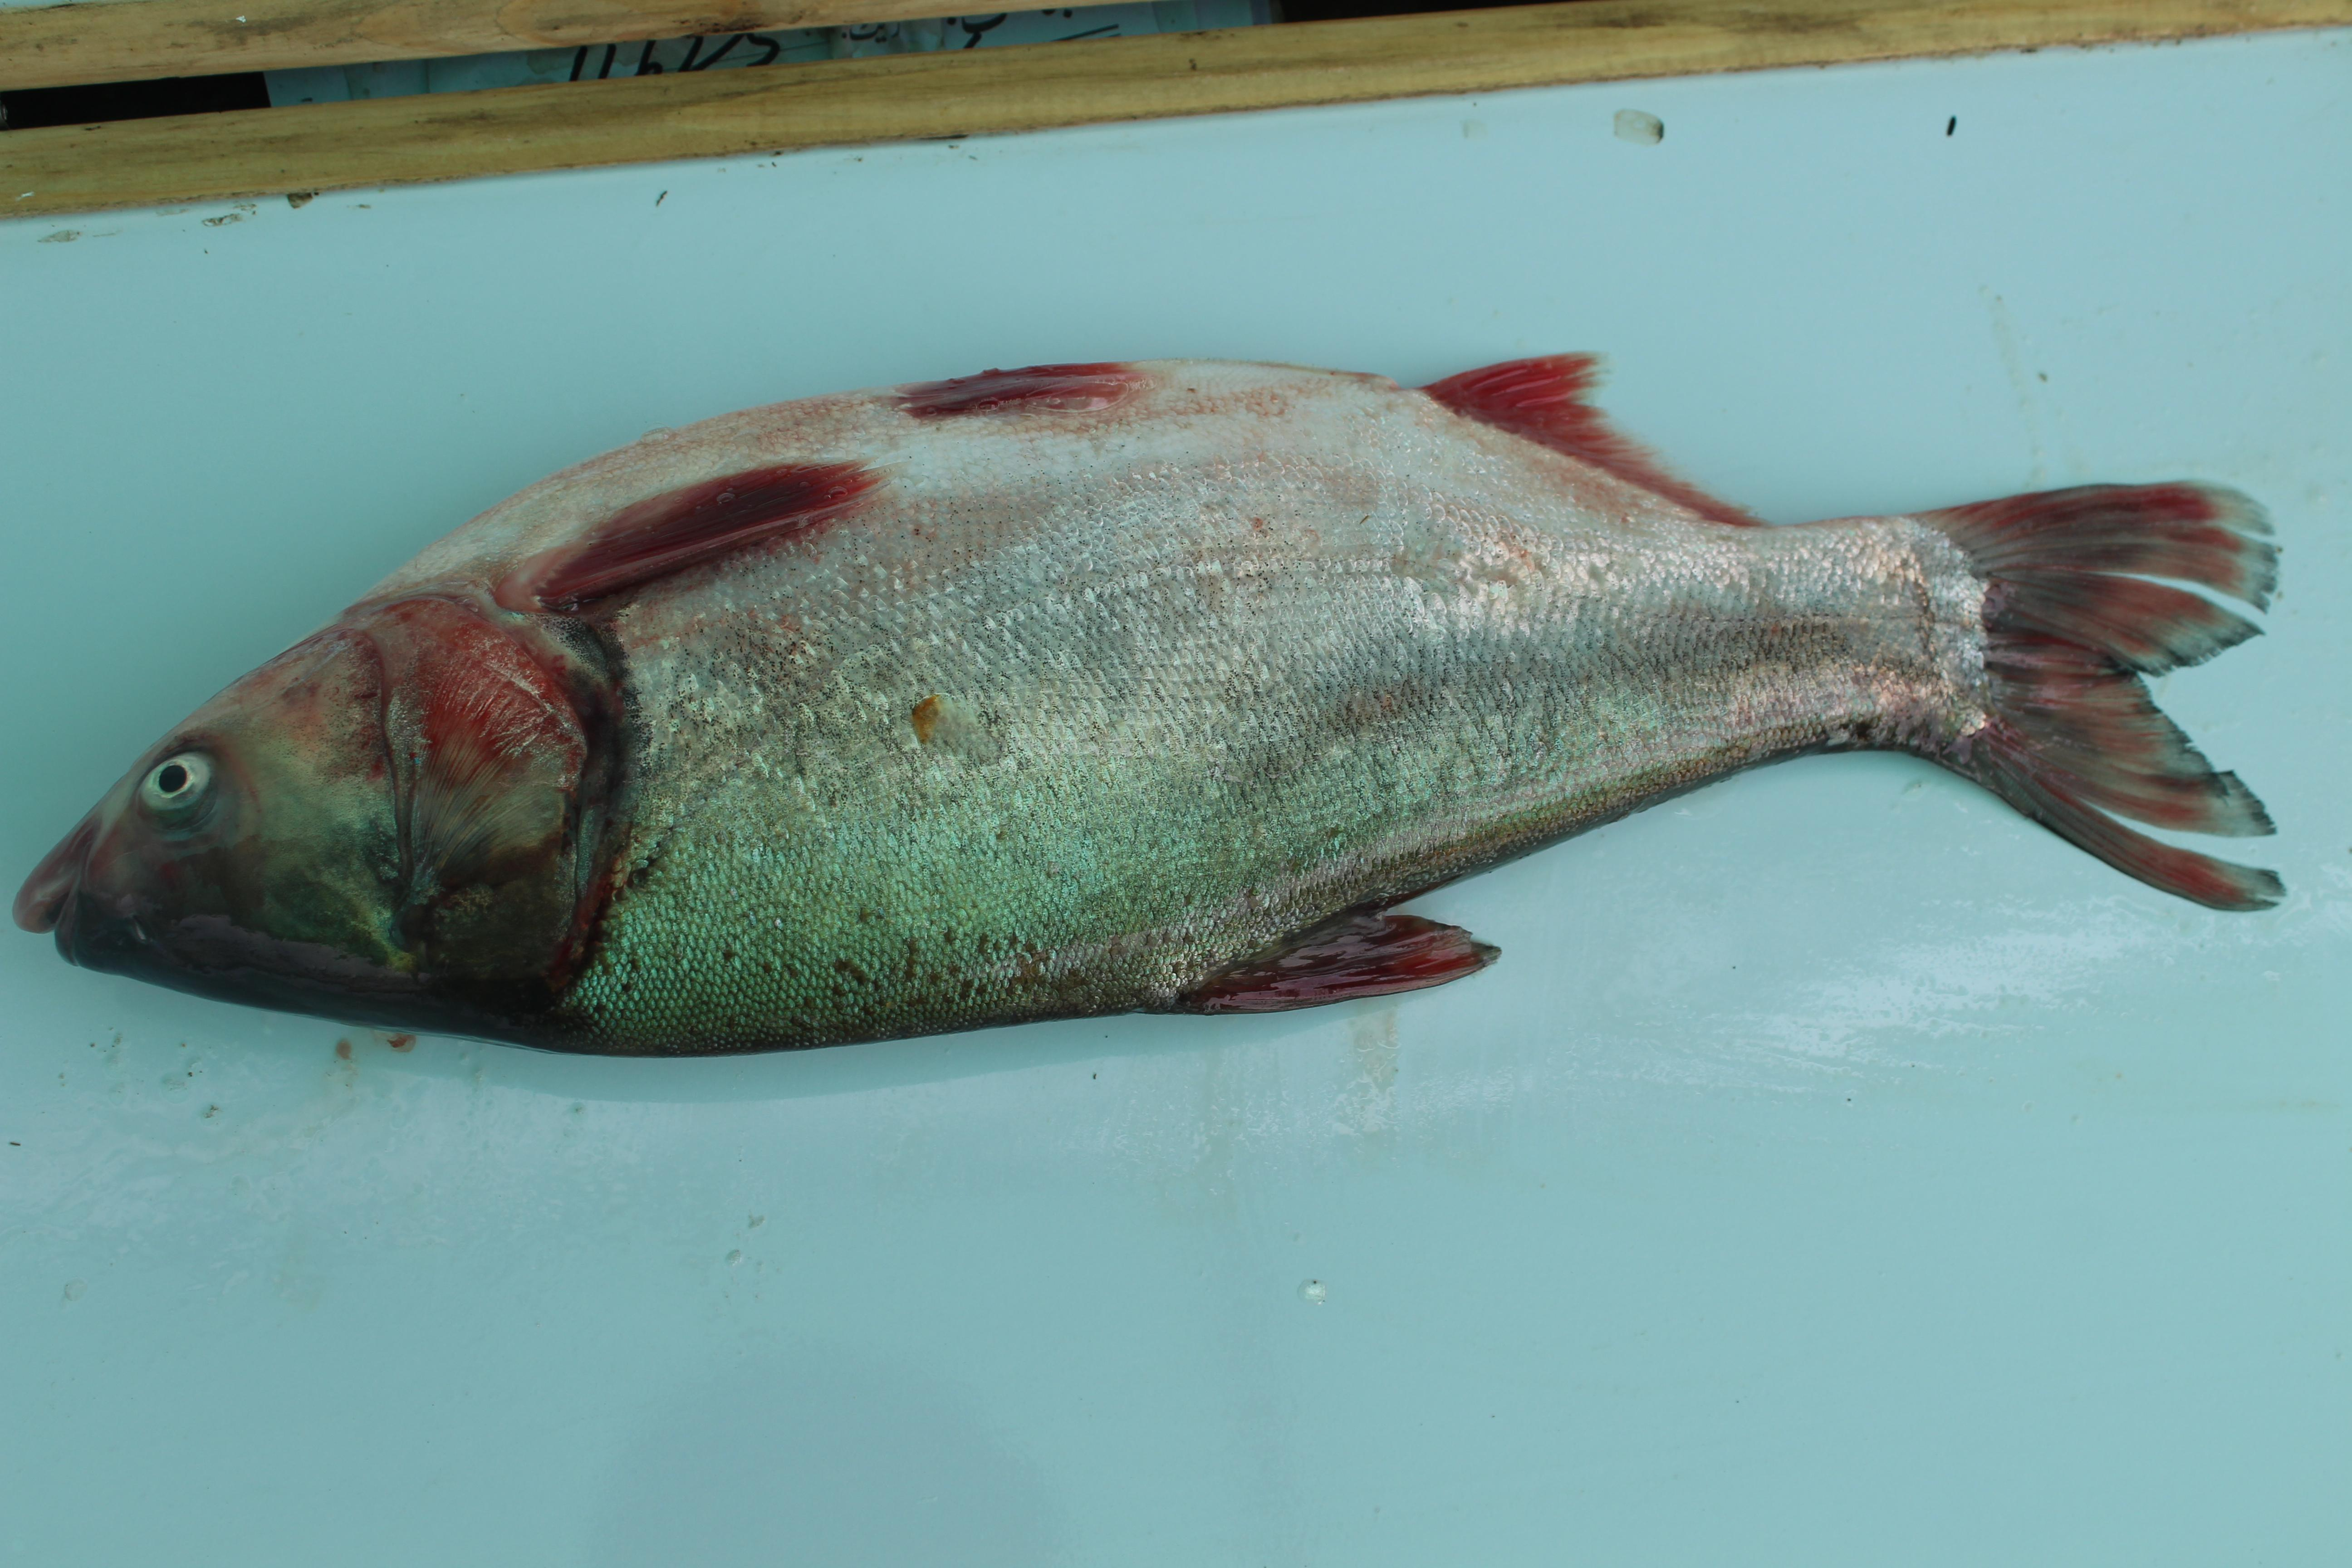Silver Carp: (24, 359, 2291, 1048)
